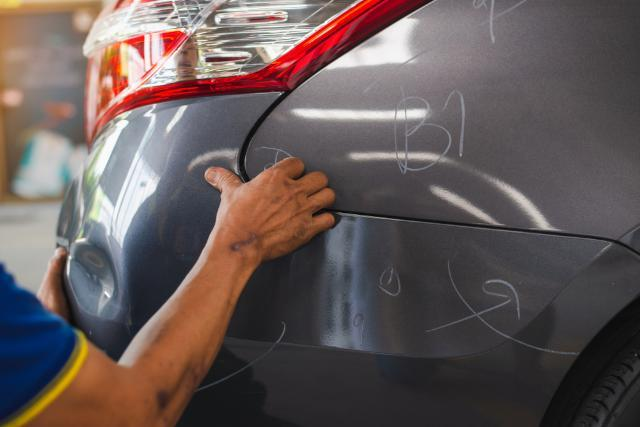dent: (66, 238, 123, 321)
